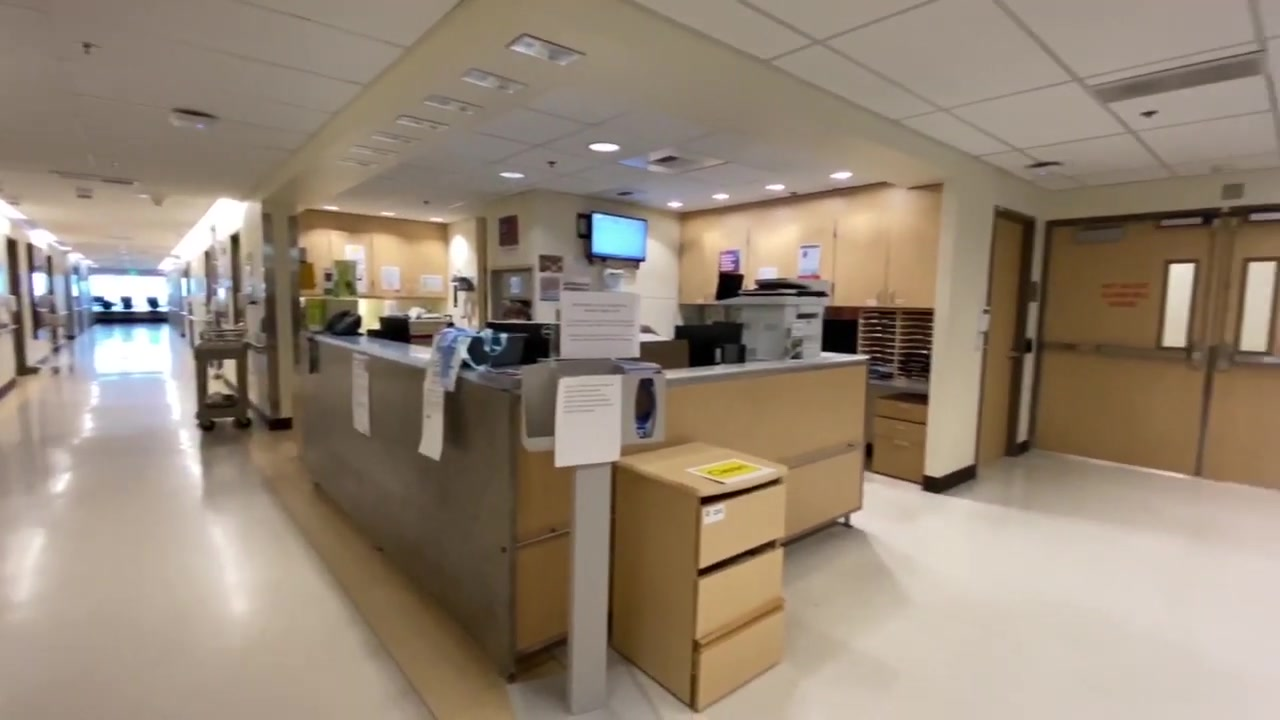TV: (589, 208, 649, 262)
cabinet: (677, 184, 936, 309), (296, 209, 450, 297)
computer: (481, 318, 542, 363), (674, 325, 722, 365), (366, 315, 410, 343), (713, 319, 744, 345)
counter: (512, 360, 866, 665), (299, 332, 512, 672)
countertop: (300, 331, 523, 395), (659, 350, 875, 383)
dispenser: (621, 361, 669, 445), (979, 305, 992, 334)
door_handle: (1005, 348, 1021, 361)
drawer: (870, 389, 926, 482)
handle: (893, 438, 911, 447), (896, 404, 912, 410), (894, 424, 907, 431)
push_latch: (1095, 343, 1207, 370), (1217, 341, 1280, 373)
table: (615, 441, 801, 699)
telephone: (325, 308, 362, 337)
utility_cart: (193, 329, 253, 431)
